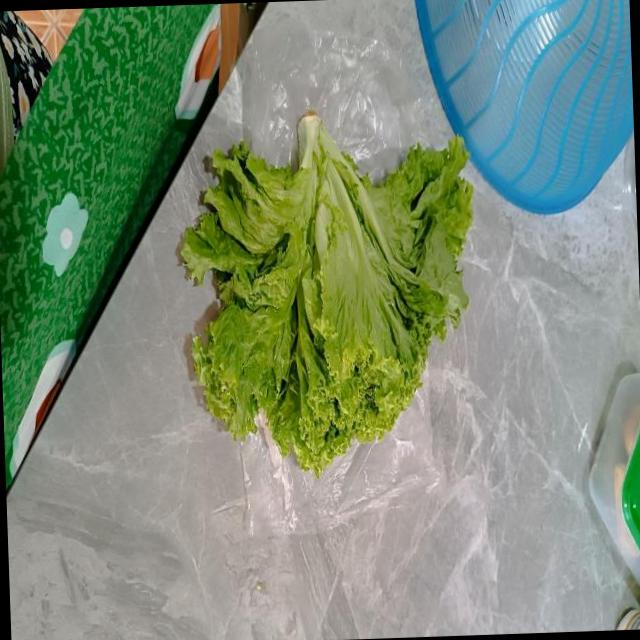Lettuce-Ready-to-Harvest: (180, 114, 472, 473)
